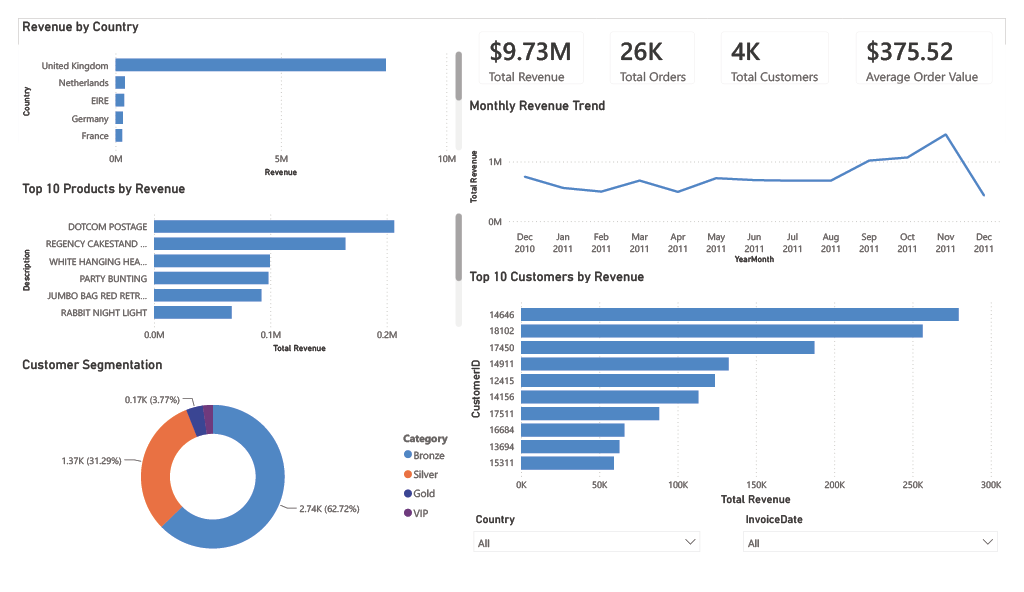

What the dashboard file says about the page in this screenshot:
{"tool":"powerbi","page":{"name":"Retail Dashboard","canvas":[1280,720],"ordinal":0},"visuals":[{"type":"clusteredBarChart","title":"Revenue by Country","fields":{"Category":["online_retail_cleaned.Country"],"Y":["Sum(online_retail_cleaned.Revenue)"]},"box":[0,0,580,210],"z":0},{"type":"cardVisual","fields":{"Data":["online_retail_cleaned.Total Orders"]},"box":[750,0,144.3,102.9],"z":1000},{"type":"cardVisual","fields":{"Data":["online_retail_cleaned.Total Customers"]},"box":[894.3,0,174.3,102.9],"z":2000},{"type":"cardVisual","fields":{"Data":["online_retail_cleaned.Total Revenue"]},"box":[580,0,170,102.9],"z":3000},{"type":"cardVisual","fields":{"Data":["online_retail_cleaned.Average Order Value"]},"box":[1068.6,0,211.4,102.9],"z":4000},{"type":"lineChart","title":"Monthly Revenue Trend","fields":{"Category":["online_retail_cleaned.YearMonth"],"Y":["online_retail_cleaned.Total Revenue"]},"box":[580,102.9,700,221.4],"z":5000},{"type":"clusteredBarChart","title":"Top 10 Products by Revenue","fields":{"Y":["online_retail_cleaned.Total Revenue"],"Category":["online_retail_cleaned.Description"]},"box":[0,210,580,228.6],"z":6000},{"type":"clusteredBarChart","title":"Top 10 Customers by Revenue","fields":{"Y":["online_retail_cleaned.Total Revenue"],"Category":["online_retail_cleaned.CustomerID"]},"box":[580,324.3,700,312.9],"z":6001},{"type":"donutChart","title":"Customer Segmentation","fields":{"Category":["CustomerSummary.Category"],"Y":["CountNonNull(CustomerSummary.CustomerID)"]},"box":[0,438.6,580,281.4],"z":6002},{"type":"slicer","fields":{"Values":["online_retail_cleaned.Country"]},"box":[580,637.1,314.3,82.9],"z":6003},{"type":"slicer","fields":{"Values":["online_retail_cleaned.InvoiceDate"]},"box":[930,637.1,350,82.9],"z":6004}]}

Visuals, with their boxes in screenshot pixels (x1, y1, x2, y2), scaled from the page's 1280x720 canvas onto the 1024x592 screenshot:
"Revenue by Country" clusteredBarChart: <bbox>0, 0, 464, 173</bbox>
cardVisual - online_retail_cleaned.Total Orders: <bbox>600, 0, 715, 85</bbox>
cardVisual - online_retail_cleaned.Total Customers: <bbox>715, 0, 855, 85</bbox>
cardVisual - online_retail_cleaned.Total Revenue: <bbox>464, 0, 600, 85</bbox>
cardVisual - online_retail_cleaned.Average Order Value: <bbox>855, 0, 1023, 85</bbox>
"Monthly Revenue Trend" lineChart: <bbox>464, 85, 1023, 267</bbox>
"Top 10 Products by Revenue" clusteredBarChart: <bbox>0, 173, 464, 361</bbox>
"Top 10 Customers by Revenue" clusteredBarChart: <bbox>464, 267, 1023, 524</bbox>
"Customer Segmentation" donutChart: <bbox>0, 361, 464, 591</bbox>
slicer - online_retail_cleaned.Country: <bbox>464, 524, 715, 591</bbox>
slicer - online_retail_cleaned.InvoiceDate: <bbox>744, 524, 1023, 591</bbox>
